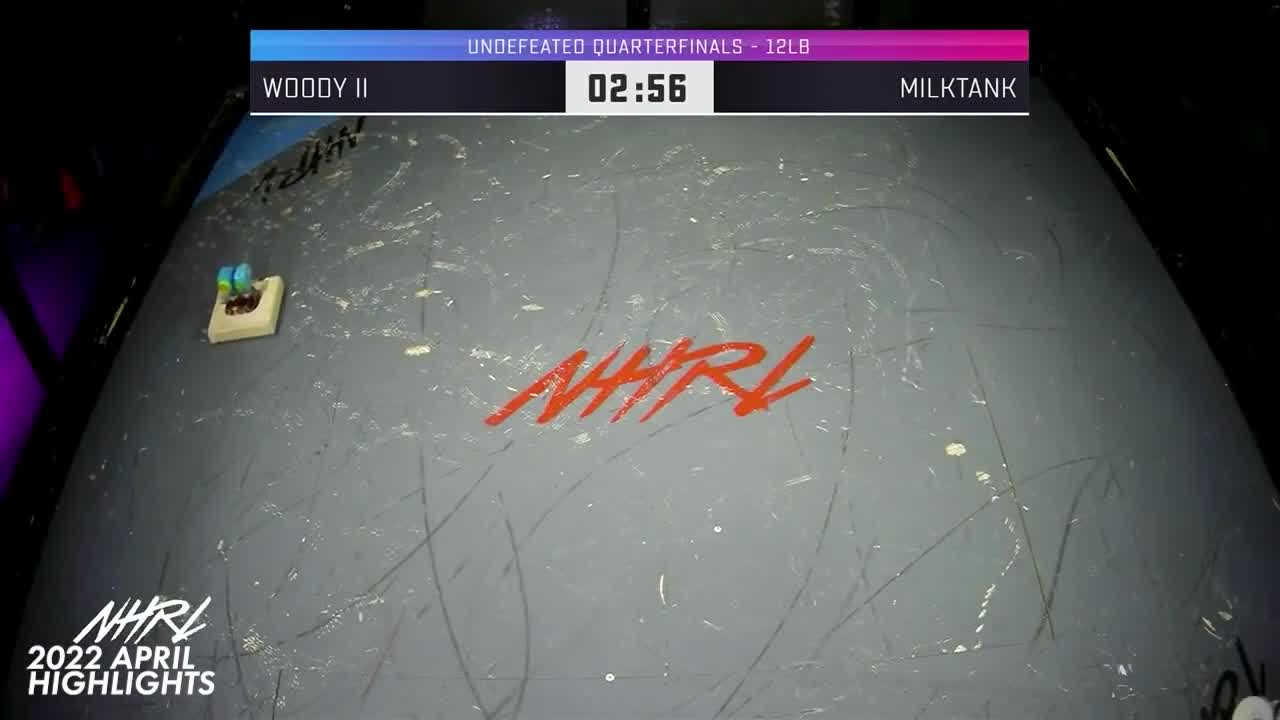combatbot: (202, 263, 288, 342)
